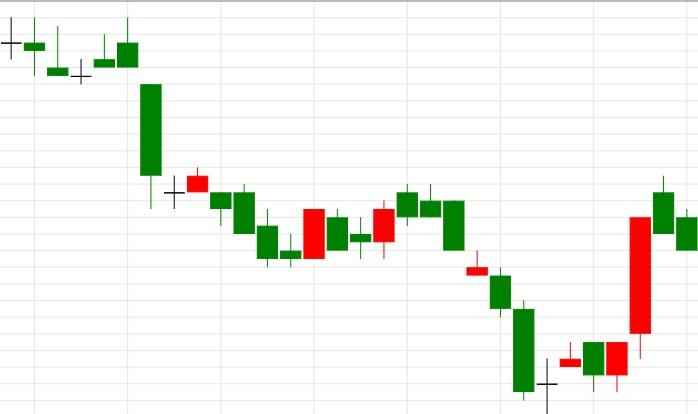morning_star_rise: (94, 18, 208, 209)
